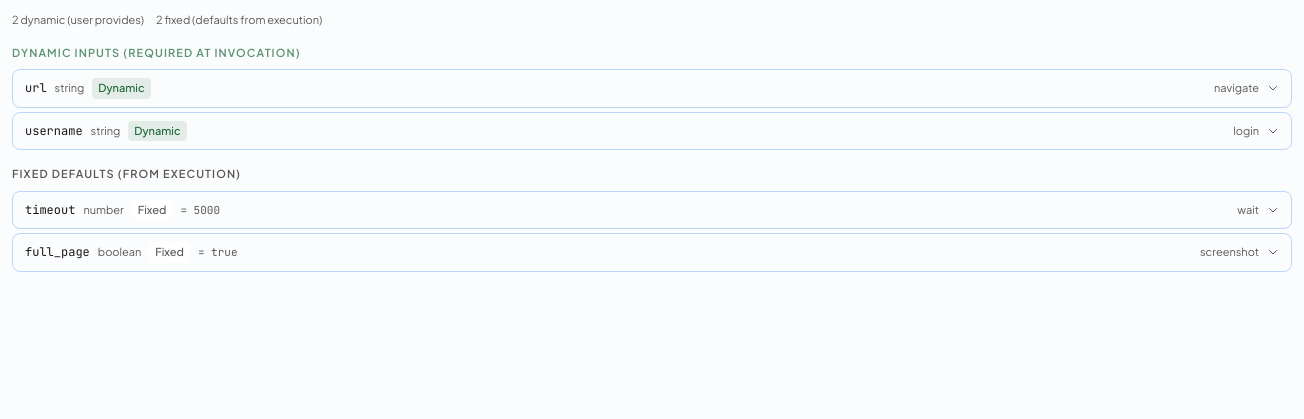
it: InputSchemaEditor › shows edit controls when editing=true and expanded
Step 1. Click the text "url" → [36, 88], box [25, 80, 47, 96]
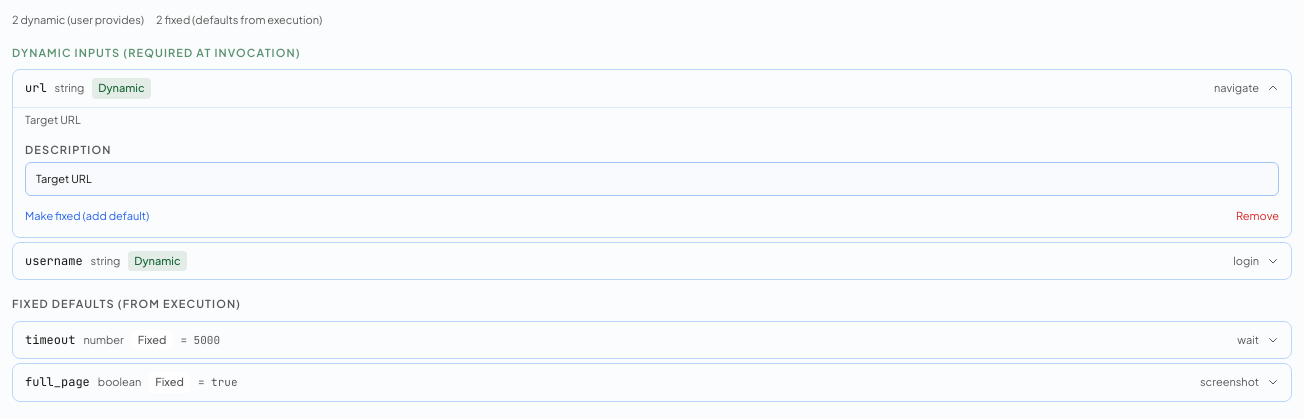
Now the button "Make fixed (add default)" is shown, box [25, 208, 149, 224]
Now the button "Remove" is shown, box [1236, 208, 1279, 224]
